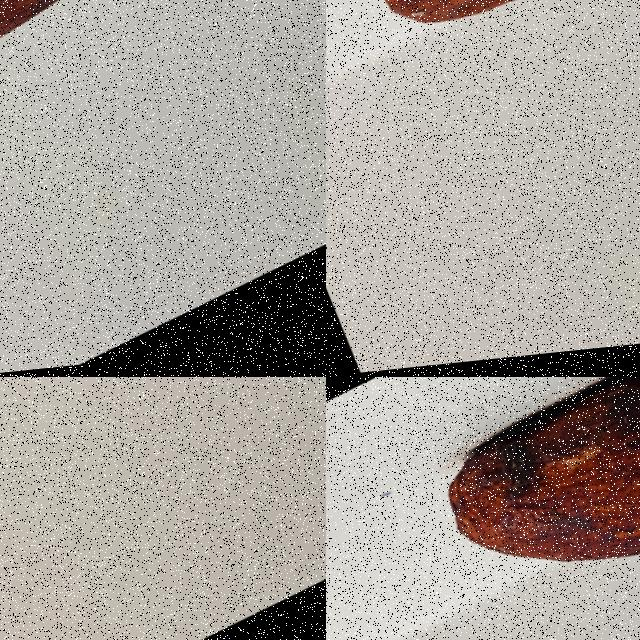Fine_cocoabeans: (358, 377, 639, 639), (0, 0, 262, 166), (327, 0, 639, 93)
